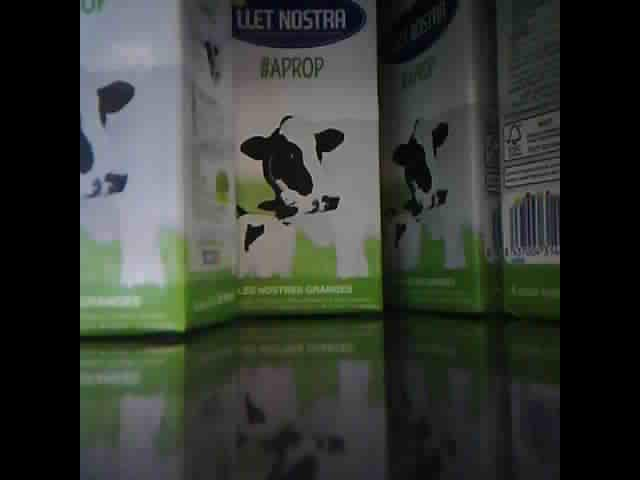leche: (82, 4, 233, 336), (236, 3, 377, 318), (387, 4, 498, 317), (502, 2, 562, 326)
